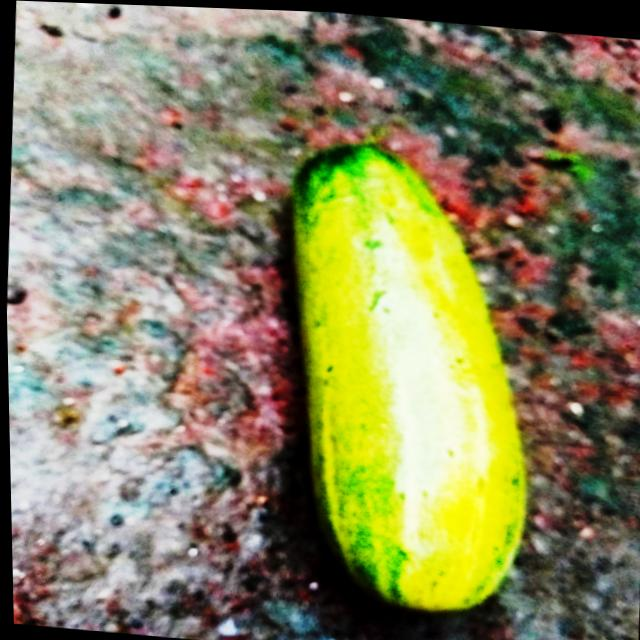Fresh-Cucumber: (266, 126, 547, 624)
